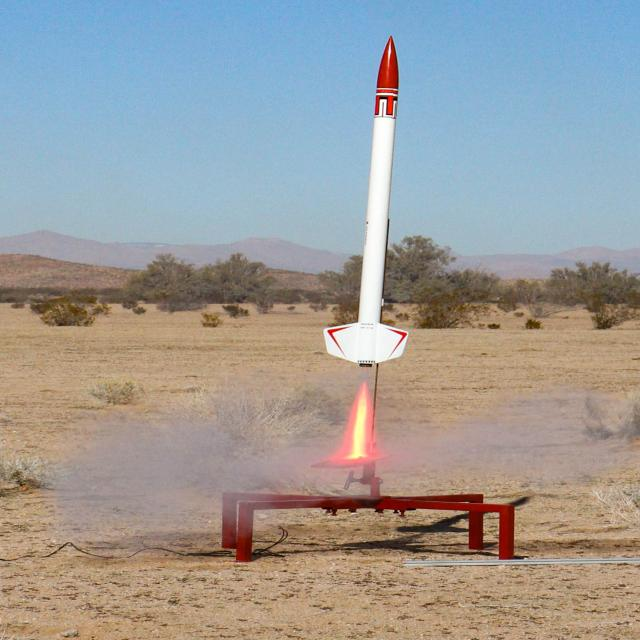Rocket: (322, 35, 410, 368)
